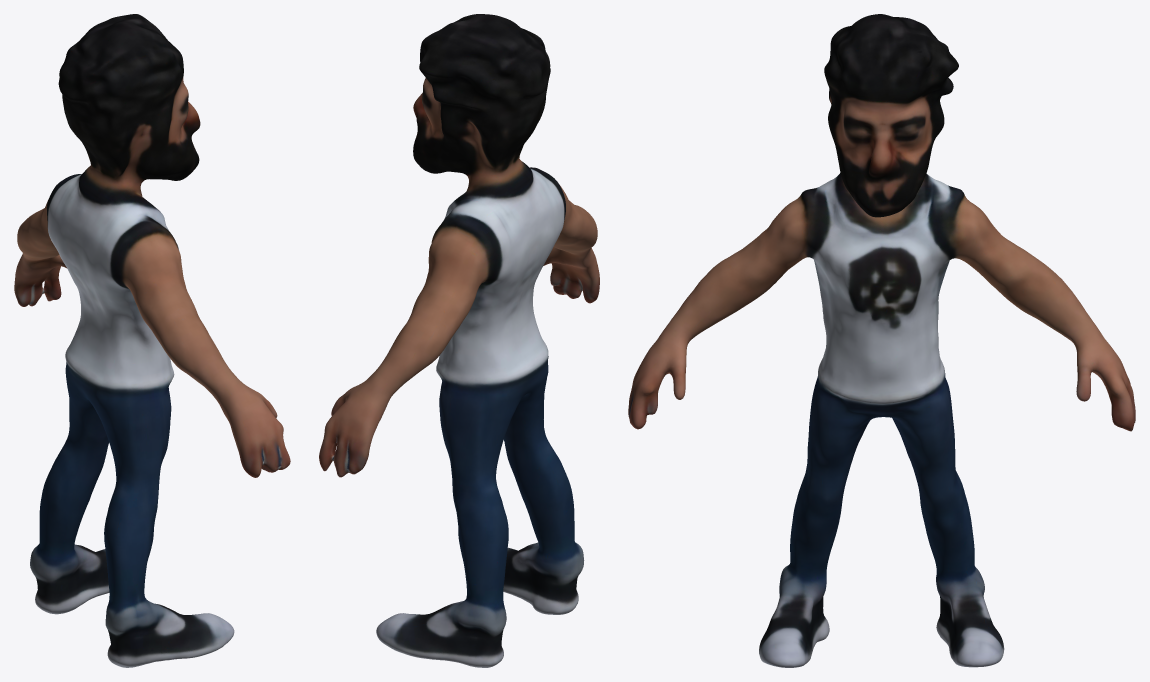
File: personagem-principal.glb
3 renders of one model, left to right at view 1: azimuth 30°, elevation 25°; view 2: azimuth 150°, elevation 25°; view 3: azimuth 270°, elevation 25°, orthographic. The views are drawn at different scales.
Visible parts, largest first — view 1: world; view 2: world; view 3: world.
Part boxes in pixels (x1,y1,x2,y2): world: (14, 14, 290, 667); world: (319, 14, 599, 667); world: (628, 14, 1135, 667).
Size of the model in its own units: 0.1285 by 0.5736 by 0.4138.
Materials: 1 (1 with a texture image).
